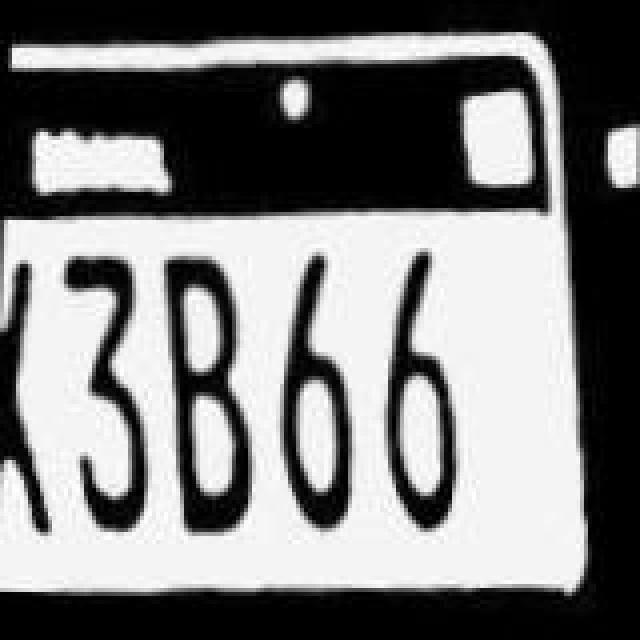3: (54, 242, 154, 542)
6: (370, 244, 486, 536), (264, 250, 368, 530)
B: (150, 244, 266, 544)
